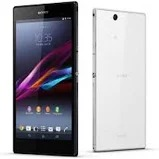sony: (11, 1, 78, 157), (92, 4, 149, 155)
